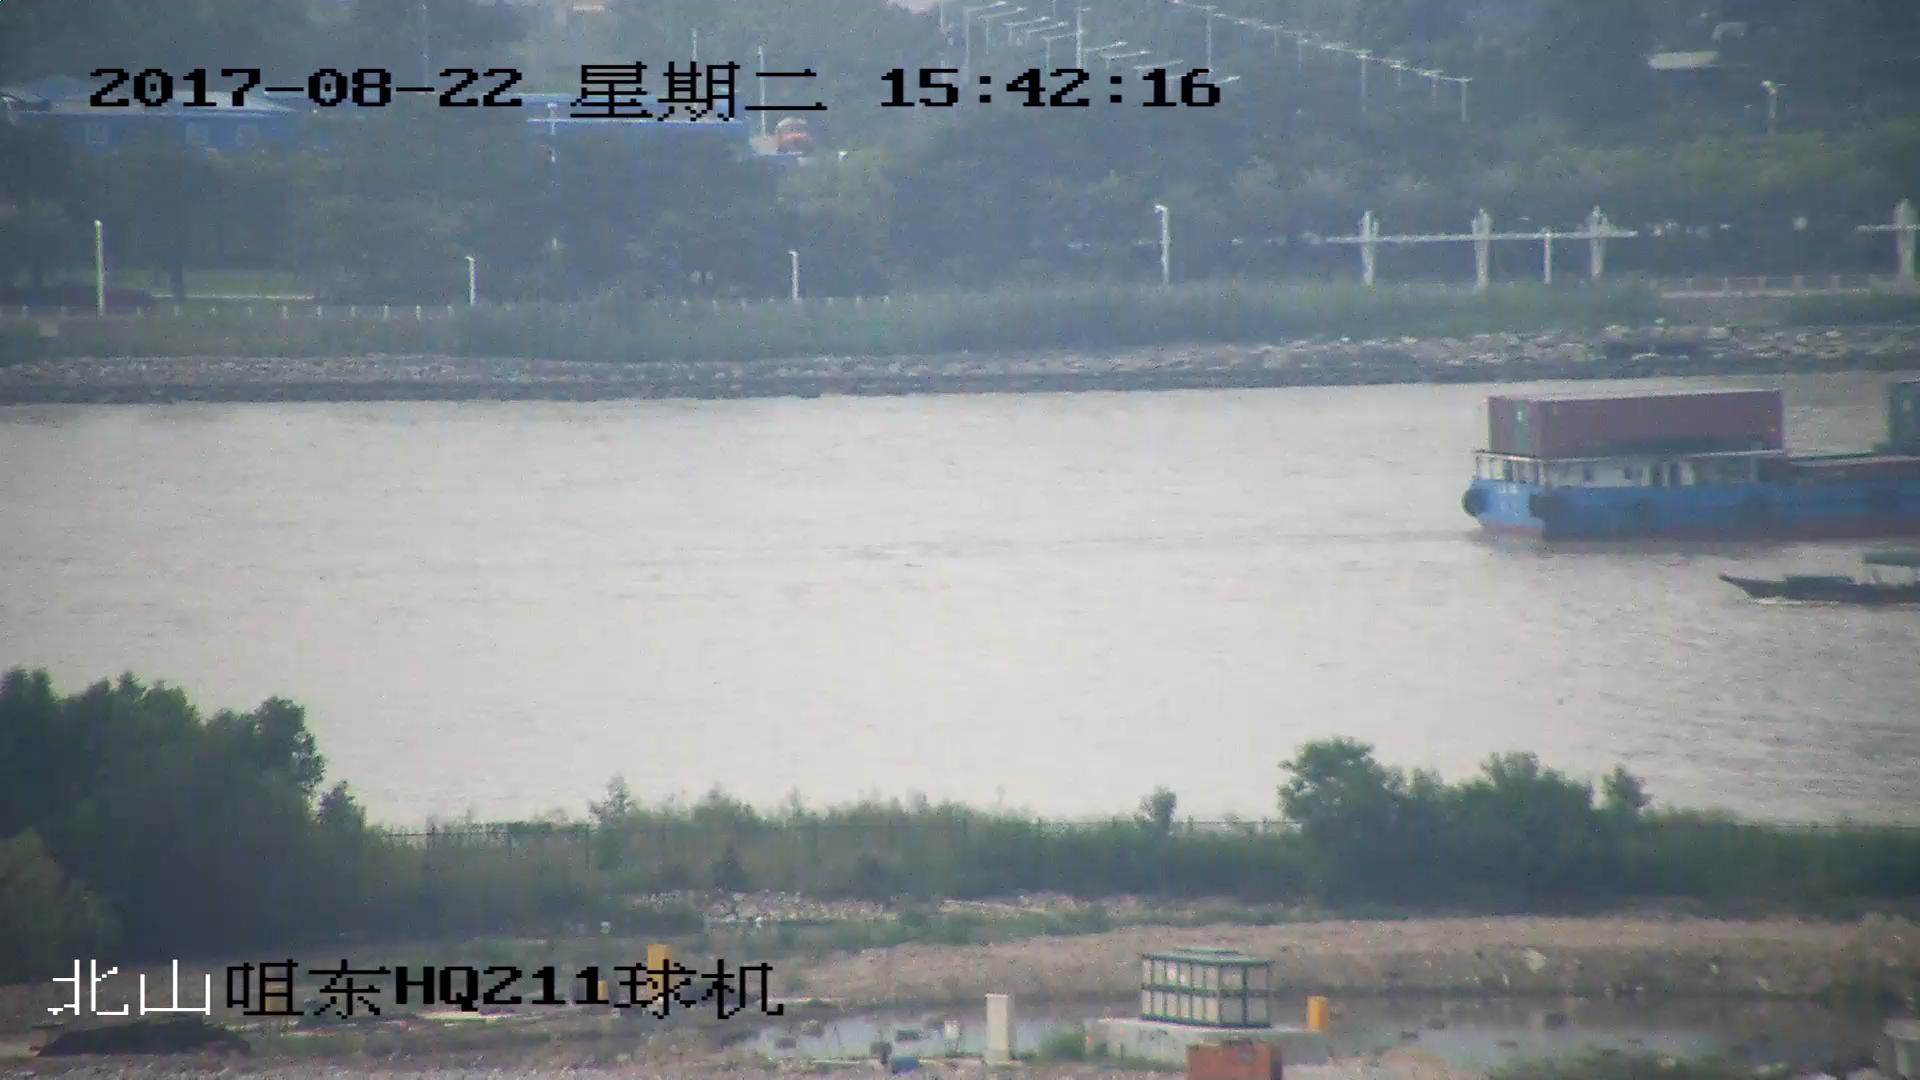container ship: (1466, 389, 1920, 544)
fishing boat: (1726, 553, 1920, 609)
